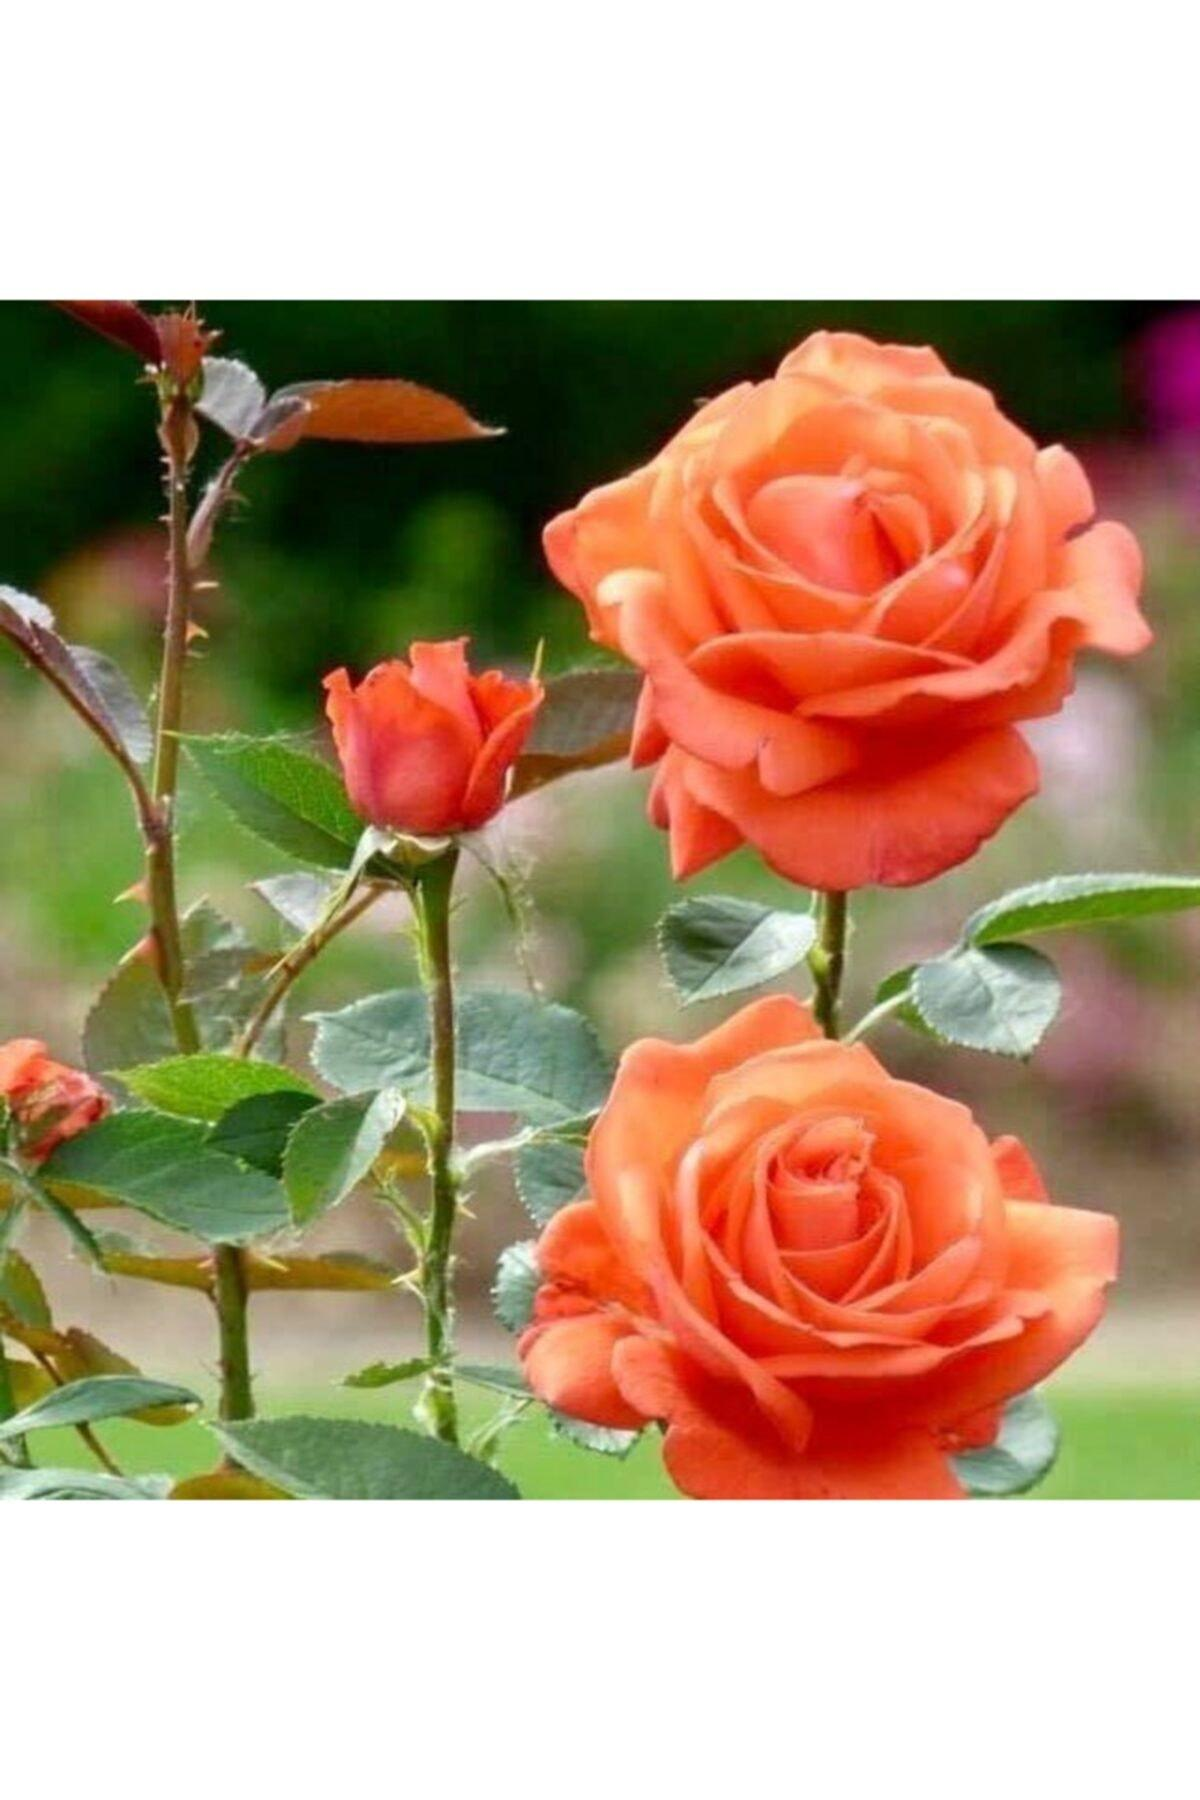Rose: (561, 311, 1180, 929), (558, 974, 1145, 1511), (281, 587, 553, 881)
